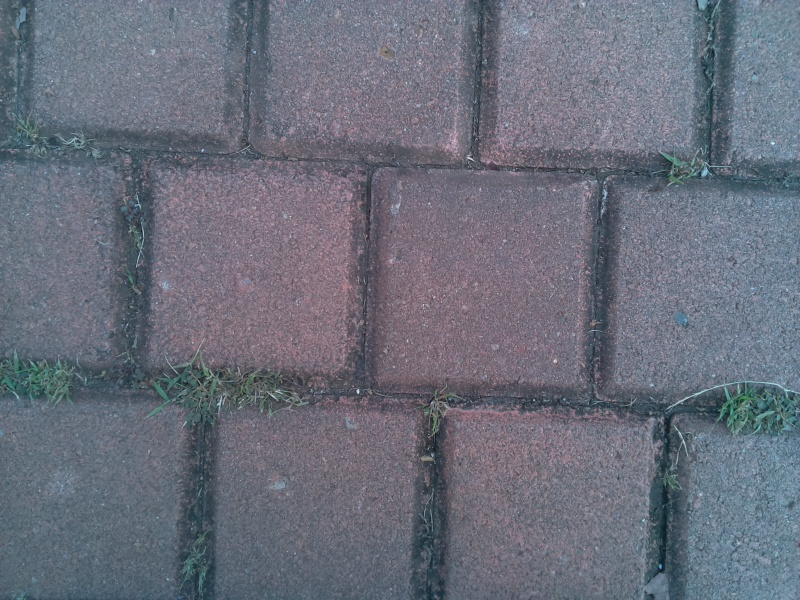Weed: (195, 360, 310, 420), (715, 378, 800, 447), (149, 355, 222, 427), (1, 346, 82, 409), (657, 141, 722, 191), (114, 194, 155, 256), (422, 390, 470, 441), (179, 528, 217, 588), (12, 105, 54, 159), (58, 123, 103, 161), (653, 456, 689, 496)
